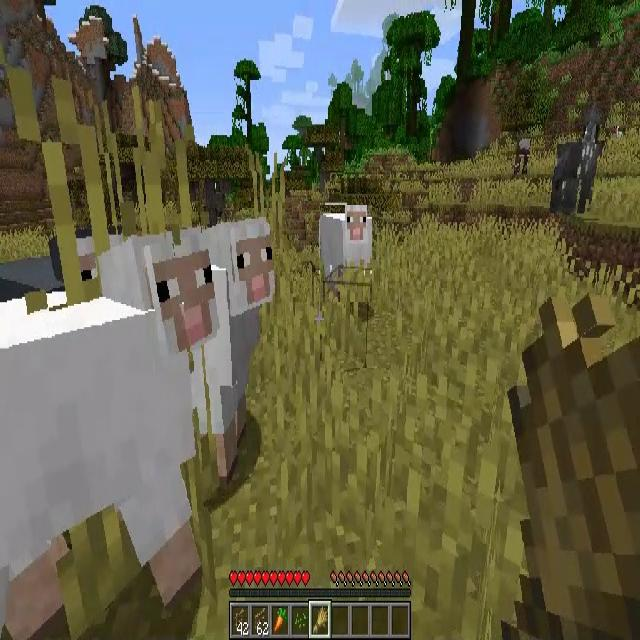sheep: (0, 238, 210, 640), (217, 215, 272, 480), (320, 205, 372, 302)
